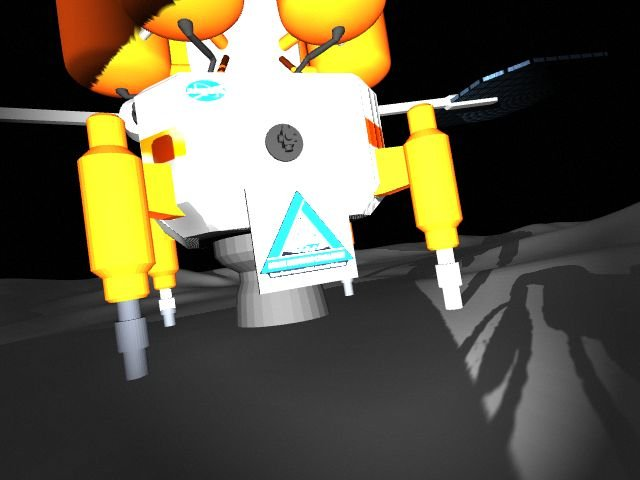basemarker: (259, 188, 355, 280)
